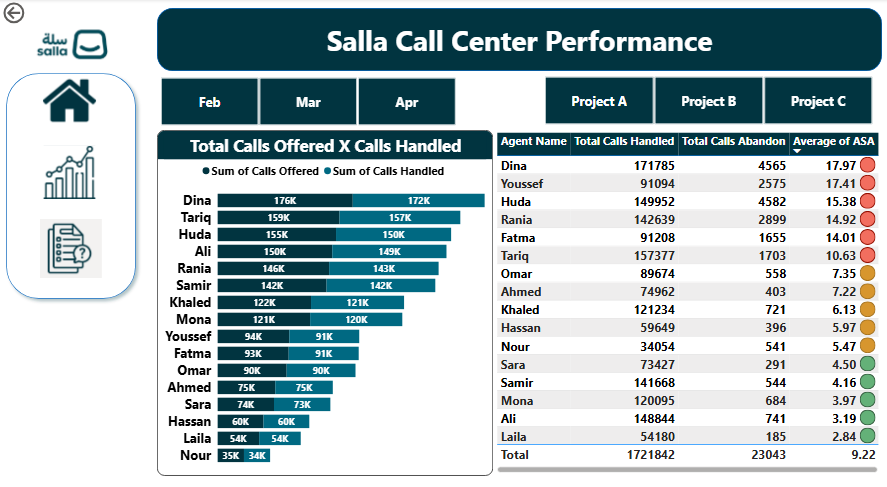

What the dashboard file says about the page in this screenshot:
{"tool":"powerbi","page":{"name":"Agents","canvas":[1280,720],"ordinal":2},"visuals":[{"type":"shape","box":[226.1,13,1044,90.7],"z":0},{"type":"actionButton","box":[38.5,0,166.5,130.8],"z":1000},{"type":"actionButton","title":"Salla Call Center Performance","box":[226.1,31.7,1044,69.1],"z":2000},{"type":"shape","box":[0,97.9,204.5,342.7],"z":3000},{"type":"actionButton","box":[57.6,103.7,89.3,85],"z":4000},{"type":"actionButton","box":[57.6,207.4,89.3,85],"z":5000},{"type":"actionButton","box":[57.6,316.8,89.3,85],"z":6000},{"type":"slicer","fields":{"Values":["Sallah Project.Month"]},"box":[205.9,106.6,473.8,82.1],"z":8000},{"type":"slicer","fields":{"Values":["Sallah Project.Project"]},"box":[758.9,105.1,521.3,82.1],"z":9000},{"type":"actionButton","box":[0,0,100,40],"z":10000},{"type":"barChart","title":"Total Calls Offered X Calls Handled  ","fields":{"Y":["Sum(Sallah Project.Calls Offered)","Sum(Sallah Project.Calls Handled)"],"Category":["Sallah Project.Agent Name"]},"box":[226.1,188.6,483.8,498.2],"z":11000},{"type":"tableEx","fields":{"Values":["Sallah Project.Agent Name","Sum(Sallah Project.Calls Handled)","Sum(Sallah Project.Calls Abandon)","Avg(Sallah Project.ASA)"]},"box":[709.9,187.2,560.2,499.7],"z":12000}]}

Visuals, with their boxes in screenshot pixels (x1, y1, x2, y2), scaled from the page's 1280x720 canvas onto the 887x487 screenshot:
shape: <box>157,9,880,70</box>
actionButton: <box>27,0,142,88</box>
"Salla Call Center Performance" actionButton: <box>157,21,880,68</box>
shape: <box>0,66,142,298</box>
actionButton: <box>40,70,102,128</box>
actionButton: <box>40,140,102,198</box>
actionButton: <box>40,214,102,272</box>
slicer - Sallah Project.Month: <box>143,72,471,128</box>
slicer - Sallah Project.Project: <box>526,71,886,127</box>
actionButton: <box>0,0,69,27</box>
"Total Calls Offered X Calls Handled  " barChart: <box>157,128,492,465</box>
tableEx - Sallah Project.Agent Name x Sum(Sallah Project.Calls Handled): <box>492,127,880,465</box>
